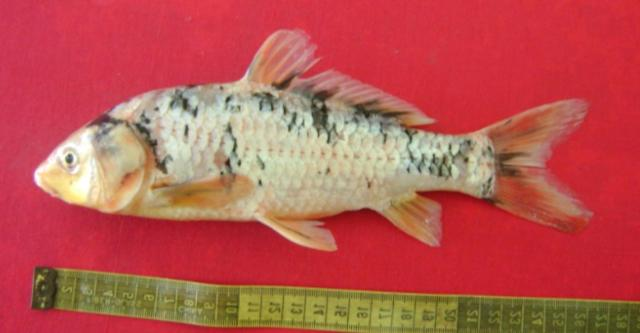Mulut: (22, 148, 84, 226)
Sirip Anal: (378, 184, 457, 256)
Sirip Dada: (150, 163, 256, 217)
Sirip Ekor: (478, 90, 598, 240)
Sirip Perut: (246, 202, 344, 261)
Sirip Punggung: (240, 23, 442, 135)
